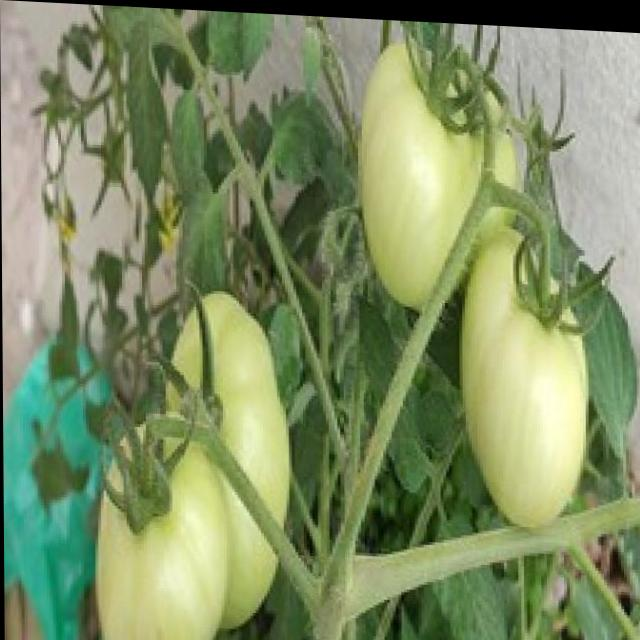yesil: (50, 6, 590, 640)
